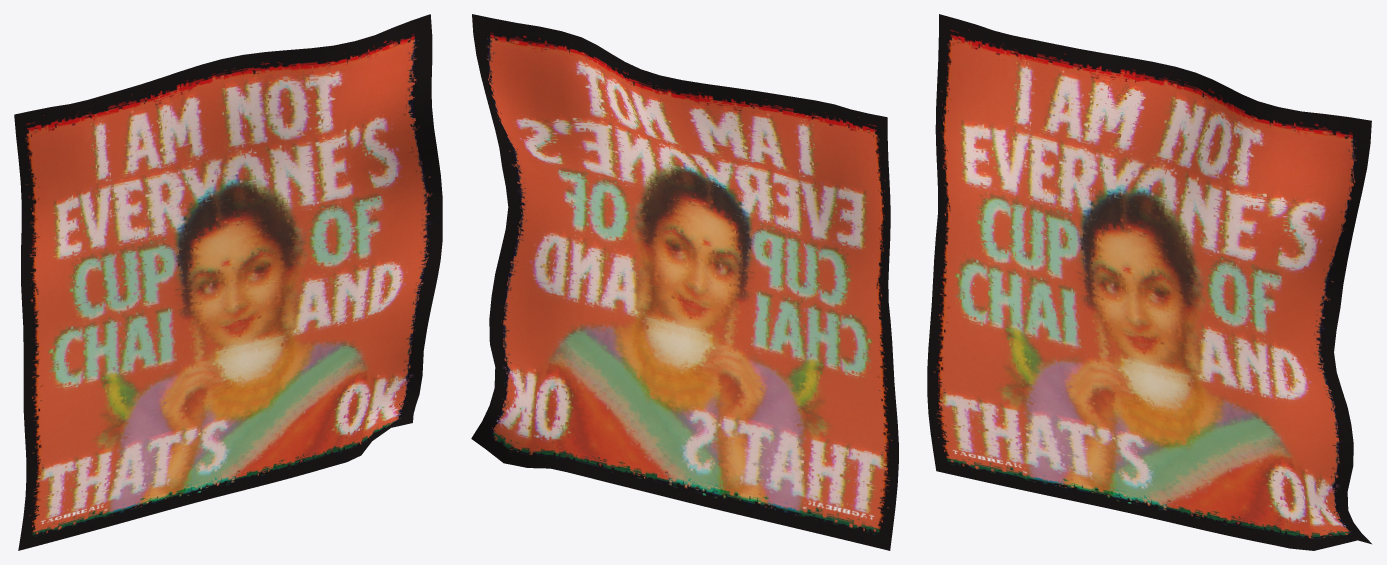
The model's file is chai.glb.
3 views of the same model, side by side, from view 1: azimuth 30°, elevation 25°; view 2: azimuth 150°, elevation 25°; view 3: azimuth 330°, elevation 25° (orthographic). The views are drawn at different scales.
Visible parts, largest first — view 1: Plane; view 2: Plane; view 3: Plane.
Boxes of the visible parts, left/top/right/bottom form: Plane: left=14, top=14, right=442, bottom=550; Plane: left=471, top=14, right=898, bottom=550; Plane: left=927, top=14, right=1371, bottom=550.
Bounding box in the file's own units: 2 × 2 × 0.3129.
Materials: 1 (1 with a texture image).
